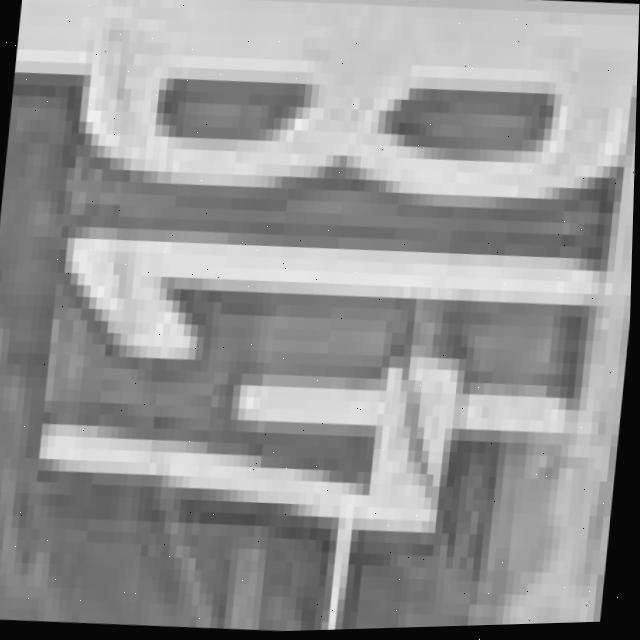character: (24, 307, 589, 564), (66, 0, 640, 232), (44, 202, 615, 397)
